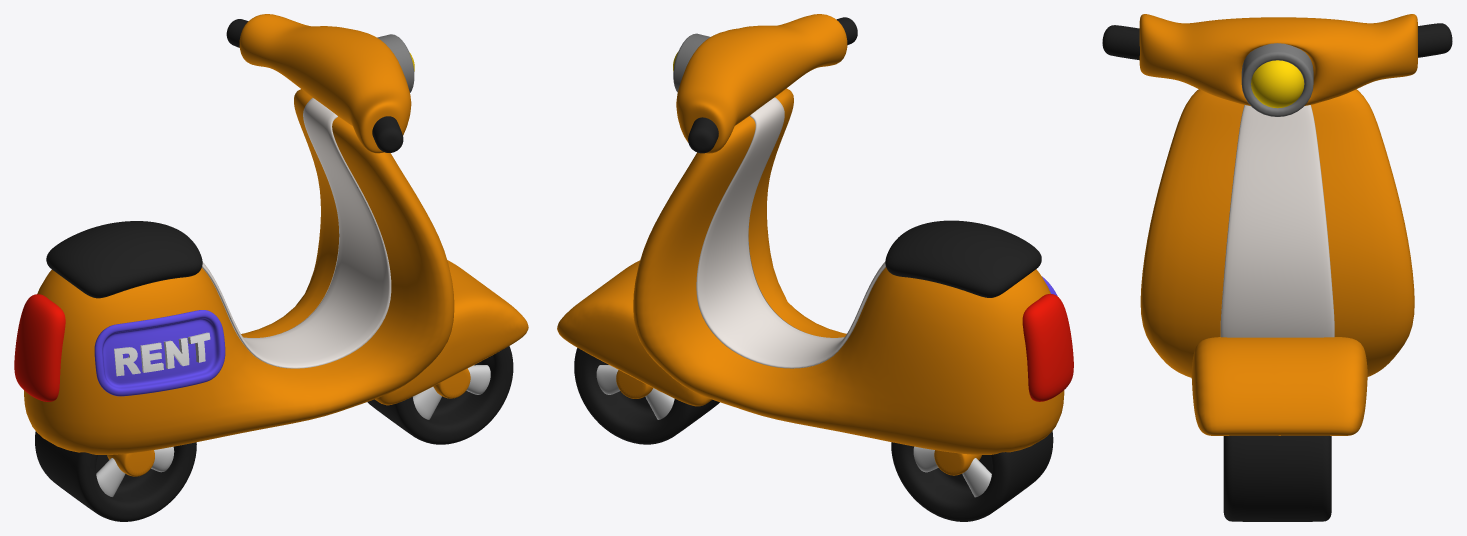
The model's file is motor-rent-animated-3d-icon-1118262415788.glb.
The picture shows the model from 3 angles, left to right: view 1: azimuth 30°, elevation 25°; view 2: azimuth 150°, elevation 25°; view 3: azimuth 270°, elevation 25°; orthographic projection. The views are drawn at different scales.
Visible parts, largest first — view 1: Body, Body.002, Head.002, Rent Label, Seat, Wheel, Fender, Tire, Back Lamp, Rein, Rim 2, Rim 2.001 (+3 smaller); view 2: Body, Body.002, Head.002, Seat, Fender, Wheel, Tire, Back Lamp, Rein, Rim 2.001, Rim 2, Lamp Holder (+2 smaller); view 3: Body, Body.001, Fender, Head.002, Tire, Lamp Holder, Rein, Front Lamp.
Part boxes in pixels (x1,y1,x2,y2): Body: [24, 89, 454, 454]; Body.002: [202, 98, 391, 368]; Head.002: [239, 14, 411, 153]; Rent Label: [94, 310, 225, 396]; Seat: [46, 221, 202, 298]; Wheel: [35, 431, 196, 521]; Fender: [375, 260, 528, 405]; Tire: [367, 346, 513, 444]; Back Lamp: [14, 294, 65, 401]; Rein: [226, 19, 403, 152]; Rim 2: [413, 365, 490, 419]; Rim 2.001: [96, 446, 174, 496]; Body: [633, 88, 1064, 454]; Body.002: [696, 97, 885, 368]; Head.002: [676, 14, 847, 153]; Seat: [885, 220, 1041, 297]; Fender: [557, 260, 711, 406]; Wheel: [891, 431, 1053, 521]; Tire: [574, 348, 719, 444]; Back Lamp: [1022, 294, 1073, 401]; Rein: [688, 17, 857, 153]; Rim 2.001: [913, 446, 991, 497]; Rim 2: [596, 365, 674, 419]; Lamp Holder: [673, 33, 710, 92]; Body: [1140, 89, 1414, 377]; Body.001: [1220, 105, 1334, 337]; Fender: [1191, 337, 1367, 435]; Head.002: [1139, 14, 1417, 105]; Tire: [1223, 435, 1331, 521]; Lamp Holder: [1241, 43, 1313, 116]; Rein: [1102, 23, 1452, 60]; Front Lamp: [1251, 60, 1304, 108].
Size of what is drawn, in the model's own units: 2.21 by 1.8 by 1.27.
